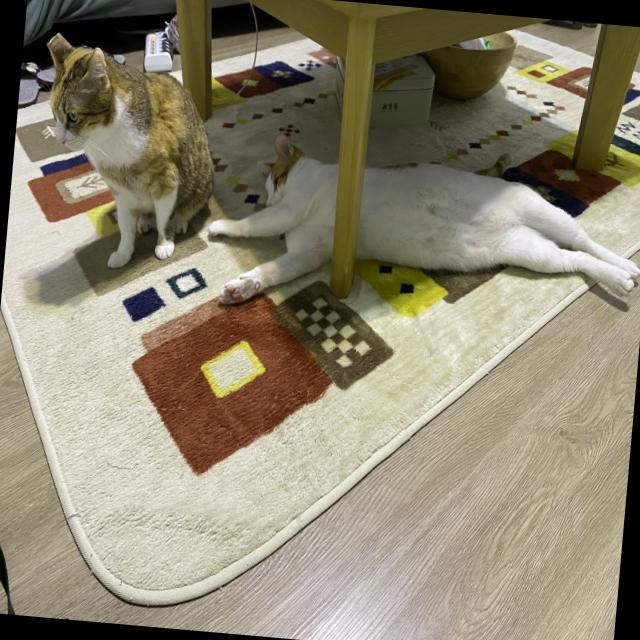cat1: (197, 122, 640, 337)
cat2: (26, 26, 229, 286)
